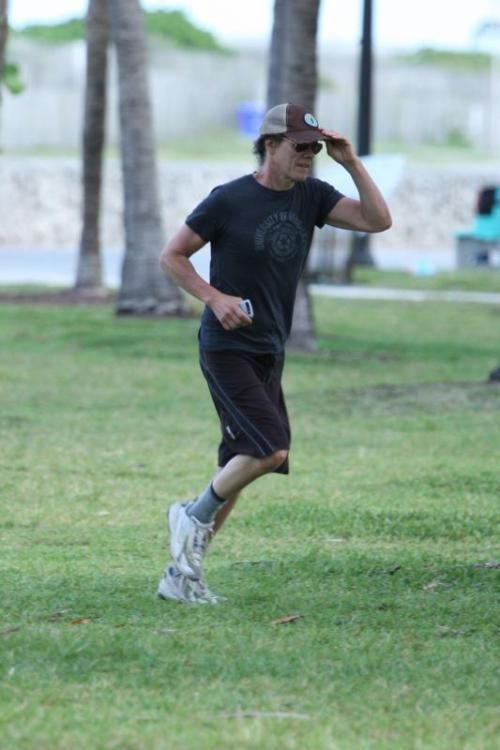person: (158, 94, 395, 609)
